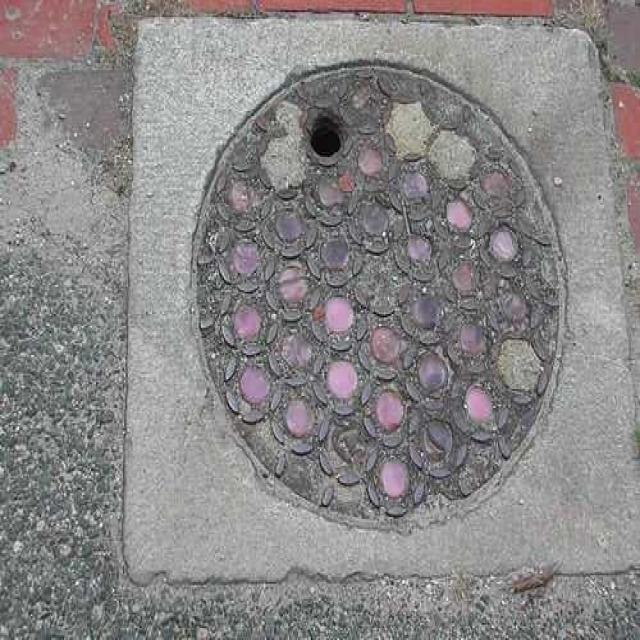manhole: (123, 10, 640, 585)
